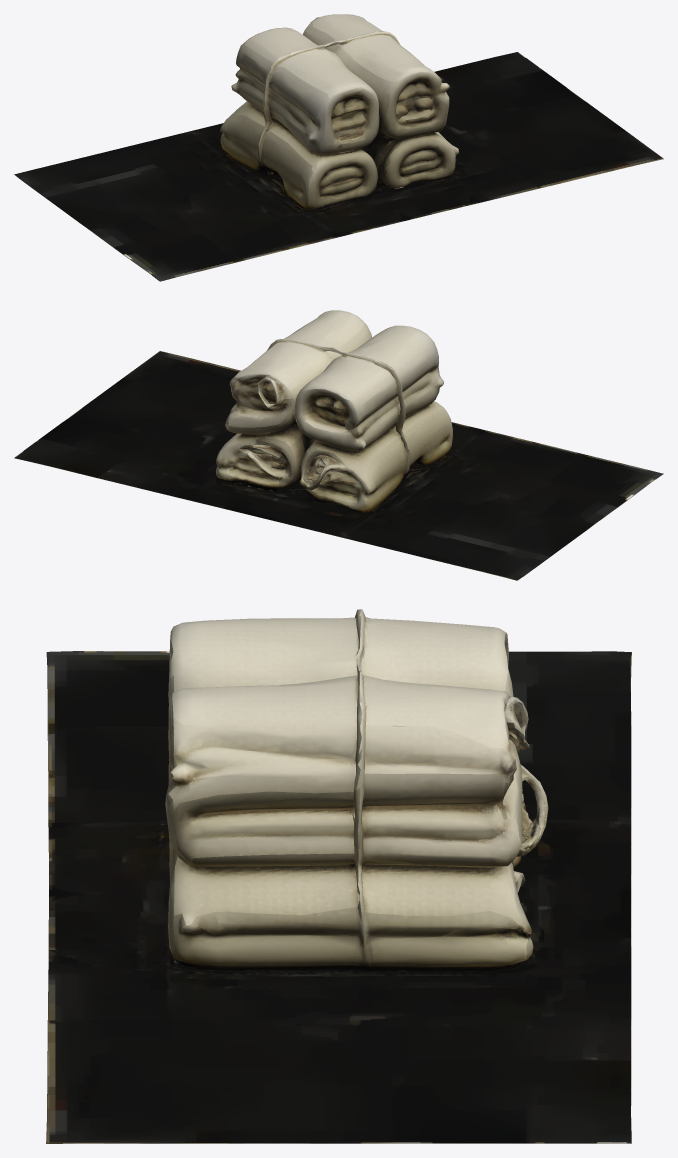
The model's file is sandbags.glb.
3 renders of one model, top to bottom at view 1: azimuth 30°, elevation 25°; view 2: azimuth 150°, elevation 25°; view 3: azimuth 270°, elevation 25°, orthographic. The views are drawn at different scales.
Visible parts, largest first — view 1: geometry_0; view 2: geometry_0; view 3: geometry_0.
Part boxes in pixels (x1,y1,x2,y2): geometry_0: [14, 14, 663, 281]; geometry_0: [14, 310, 663, 580]; geometry_0: [46, 609, 631, 1143].
Bounding box in the file's own units: 1 × 0.2423 × 0.5035.
1 material, 1 textured.
